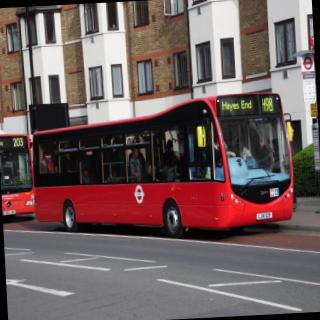bus: (29, 90, 296, 238), (0, 132, 35, 217)
